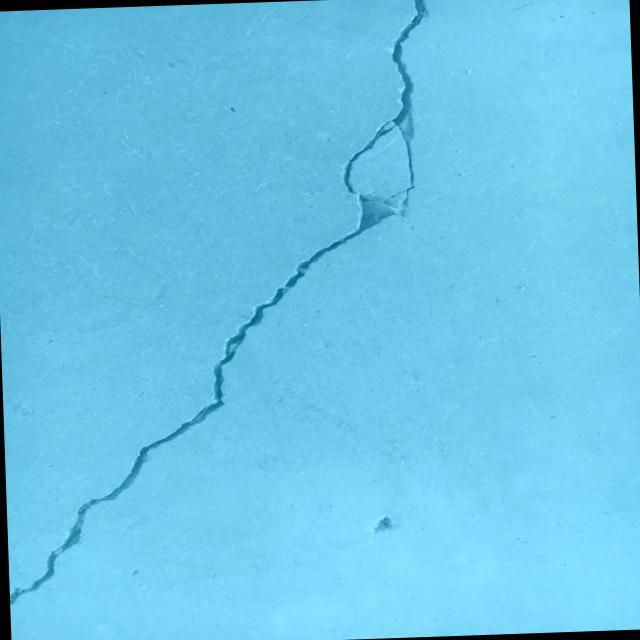crack: (0, 0, 449, 605)
